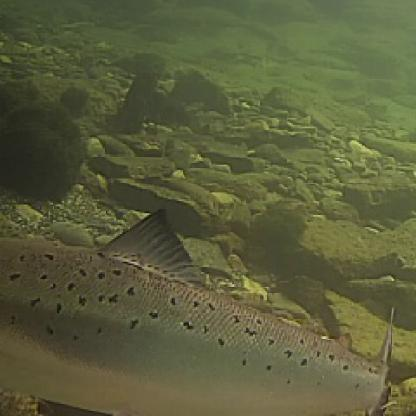salmon: (0, 203, 402, 415)
